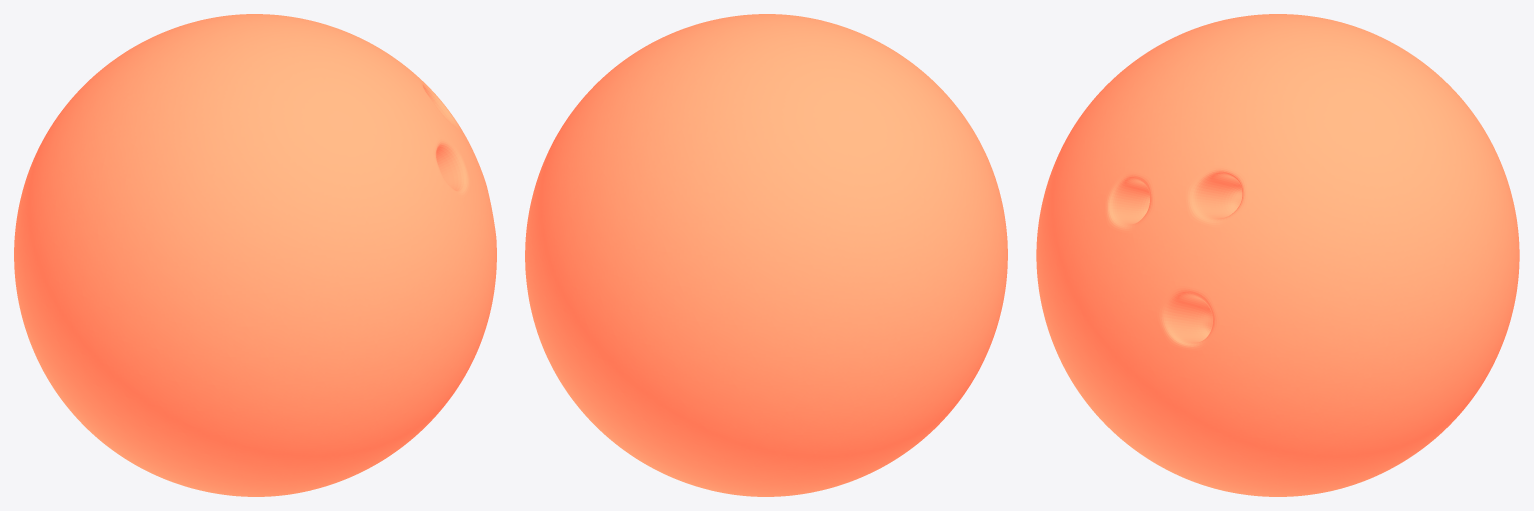
File: skullball.fbx
3 renders of one model, left to right at view 1: azimuth 30°, elevation 25°; view 2: azimuth 150°, elevation 25°; view 3: azimuth 270°, elevation 25°, orthographic.
Visible parts, largest first — view 1: Icosphere; view 2: Icosphere; view 3: Icosphere.
Part boxes in pixels (bbox=[...]): Icosphere: bbox=[14, 14, 496, 496]; Icosphere: bbox=[525, 14, 1007, 496]; Icosphere: bbox=[1036, 14, 1519, 496].
Bounding box in the file's own units: 995 × 997 × 995.
